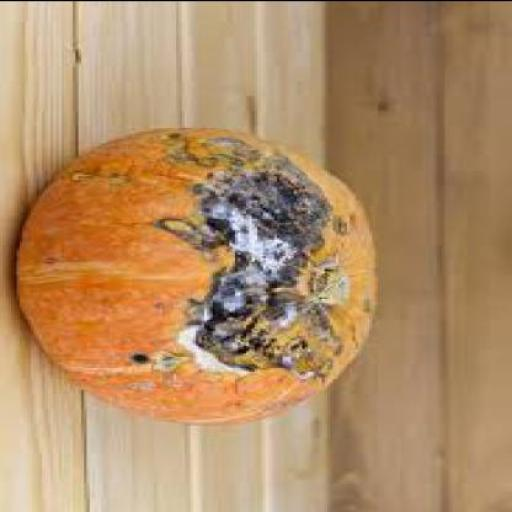biodegradable: (16, 129, 384, 424)
